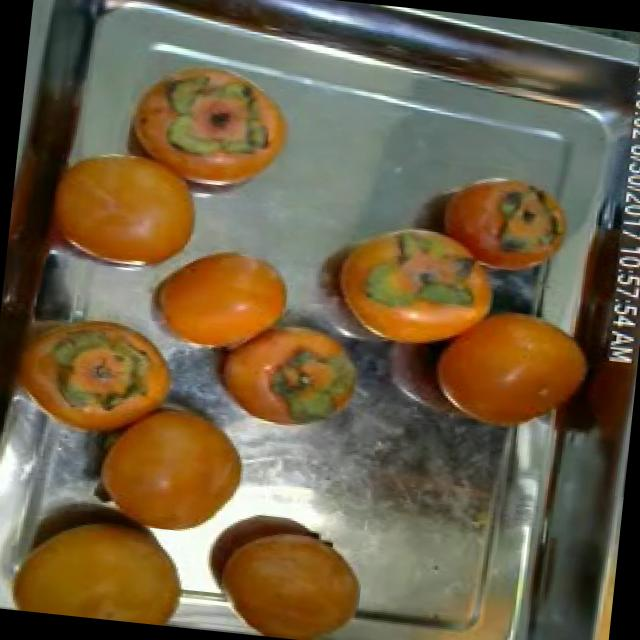Fruit: (12, 123, 229, 304), (66, 372, 270, 552), (404, 282, 612, 448), (0, 298, 195, 462), (175, 493, 382, 640), (122, 220, 314, 378), (191, 300, 382, 452), (0, 493, 207, 628), (139, 56, 306, 206), (398, 157, 586, 290)
